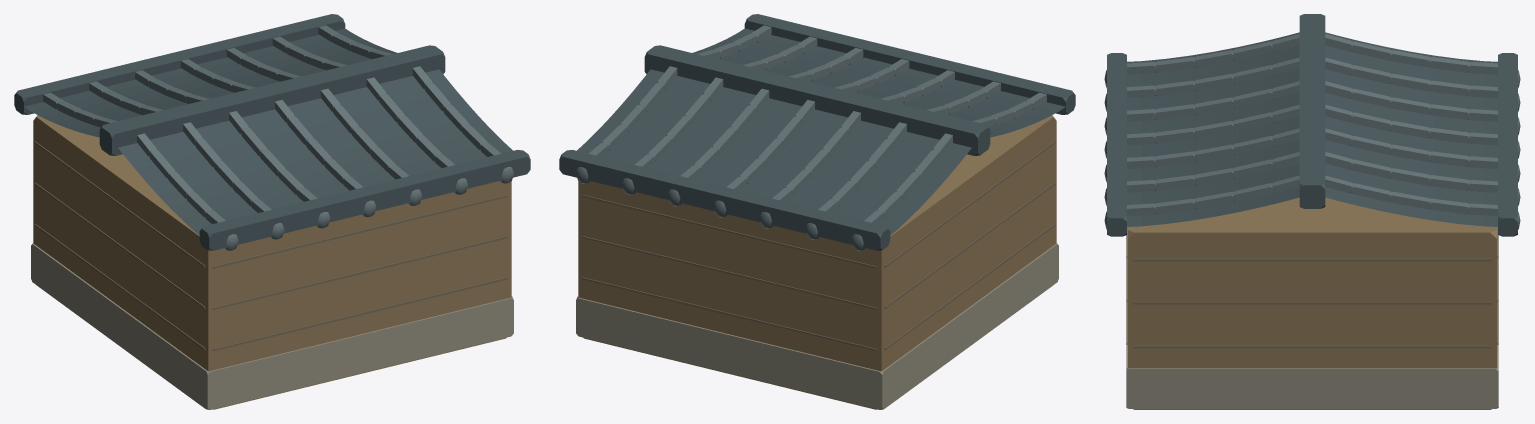
Rendered from night_wall.glb.
3 views of the same model, side by side, from view 1: azimuth 30°, elevation 25°; view 2: azimuth 150°, elevation 25°; view 3: azimuth 270°, elevation 25° (orthographic). The views are drawn at different scales.
Parts seen in each view (by area): view 1: WardWall; view 2: WardWall; view 3: WardWall.
Boxes of the visible parts, x1,y1,x2,y2 form: WardWall: (14,14,530,409); WardWall: (559,14,1075,409); WardWall: (1104,14,1520,409).
Size of the model in its own units: 1.1 by 0.695 by 1.13.
